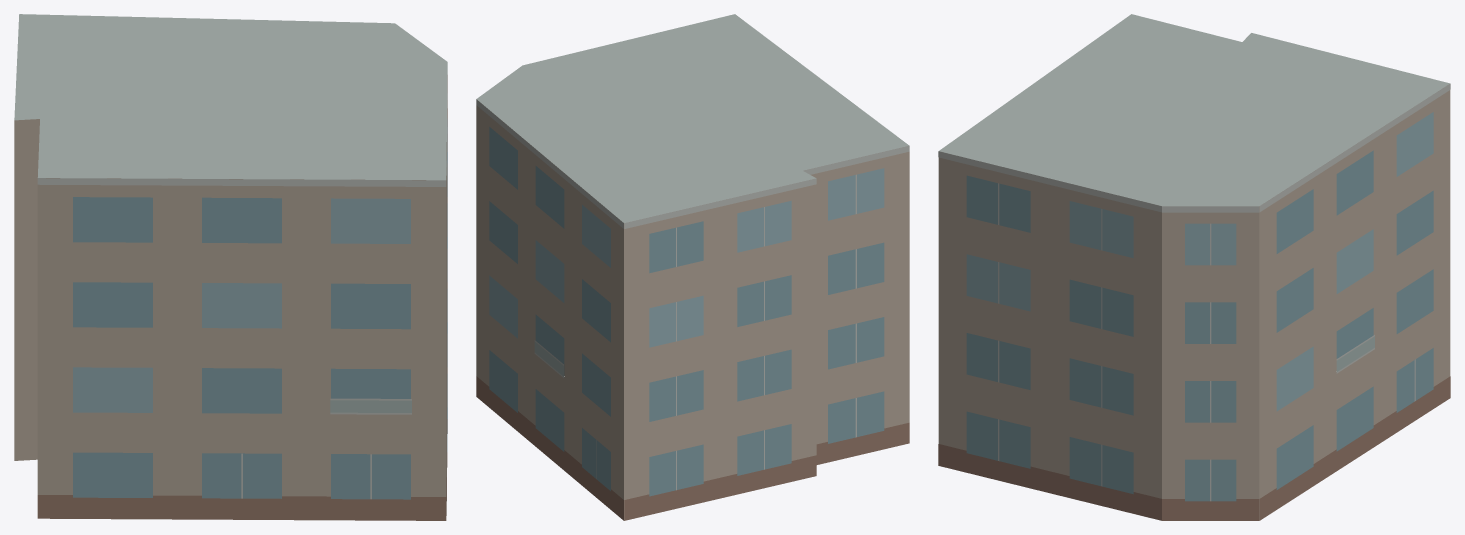
Rendered from survey-upis-32821660.glb.
3 views of the same model, side by side, from view 1: azimuth 30°, elevation 25°; view 2: azimuth 150°, elevation 25°; view 3: azimuth 270°, elevation 25° (orthographic). The views are drawn at different scales.
Visible parts, largest first — view 1: survey-upis-32821660.tmp; view 2: survey-upis-32821660.tmp; view 3: survey-upis-32821660.tmp.
Boxes of the visible parts, x1,y1,x2,y2 form: survey-upis-32821660.tmp: (14, 14, 447, 520); survey-upis-32821660.tmp: (476, 14, 909, 520); survey-upis-32821660.tmp: (938, 14, 1450, 520).
Size of the model in its own units: 16 by 12.2 by 18.
